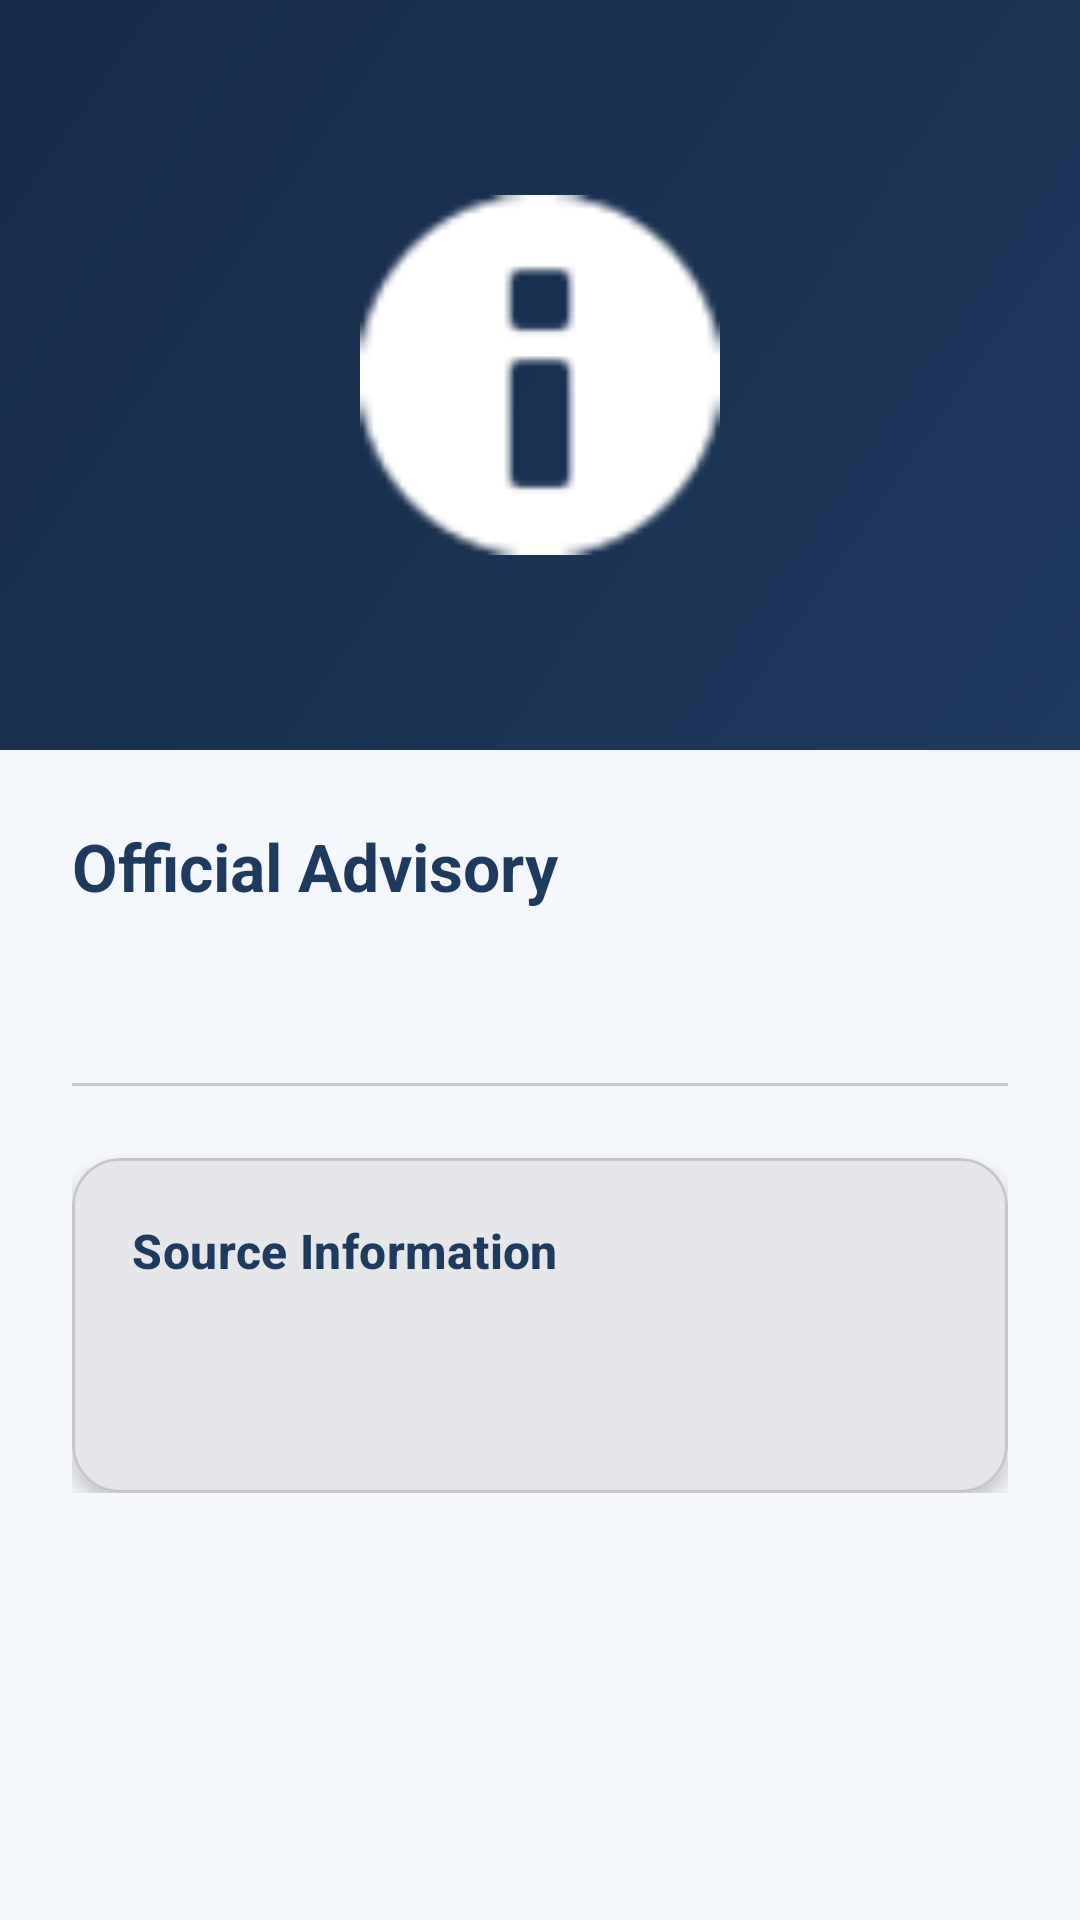

Named icons in this screenshot (1080*1920) and their bounding boxes, Rect(x1, y1, x2, y2):
info: Rect(360, 195, 720, 555)
